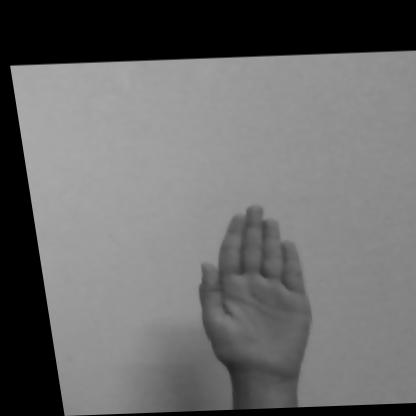palm: (130, 186, 371, 411)
